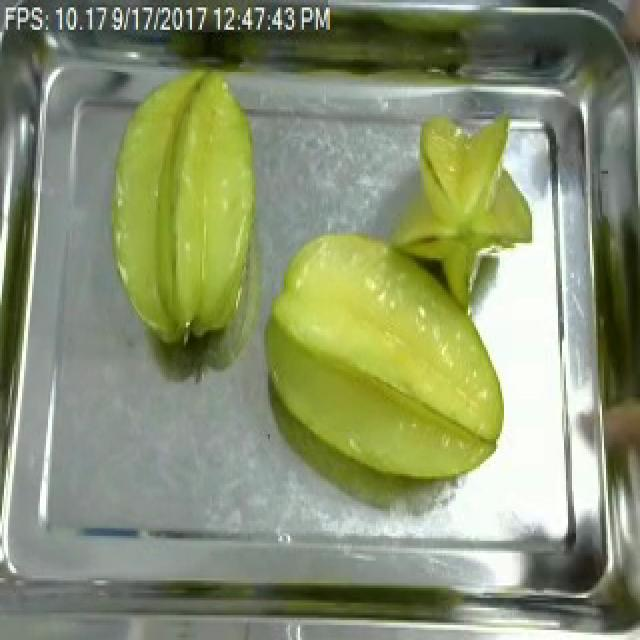fruit: (250, 228, 512, 491), (96, 57, 270, 365), (390, 100, 542, 270)
